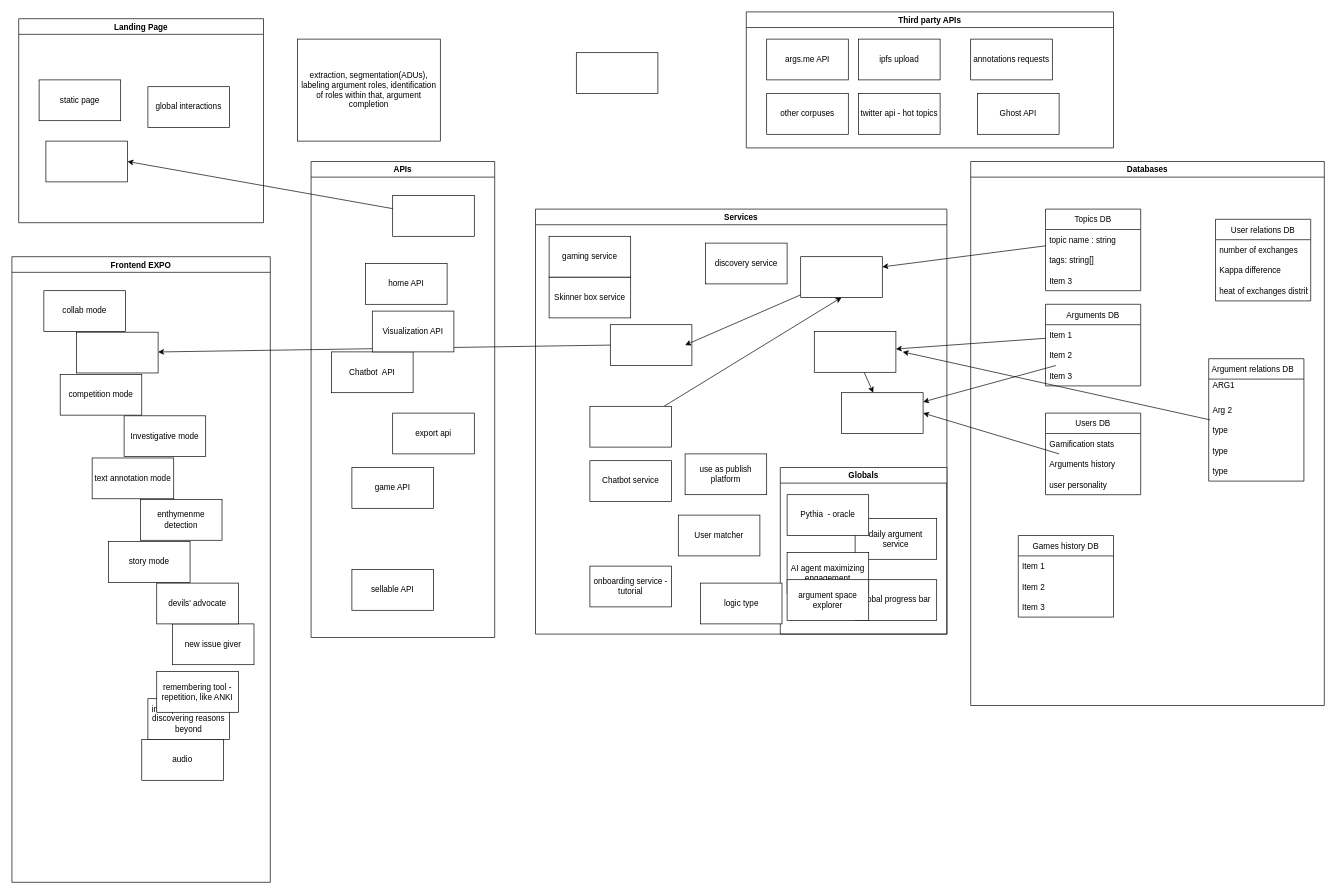
Image size: 1339x894. Some labels were removed from this diagram. Here are the shapes that lost their labels. From the top down, the centre of each, then its label:
(617,73): enum, boolean, investigative questions
(86,161): trending topics
(433,215): topics API
(841,277): topics suggestor
(117,352): timeline
(651,345): timeline mixer
(855,351): argument rank - using pagerank
(630,426): traffic monitor
(882,413): argument suggestion service
